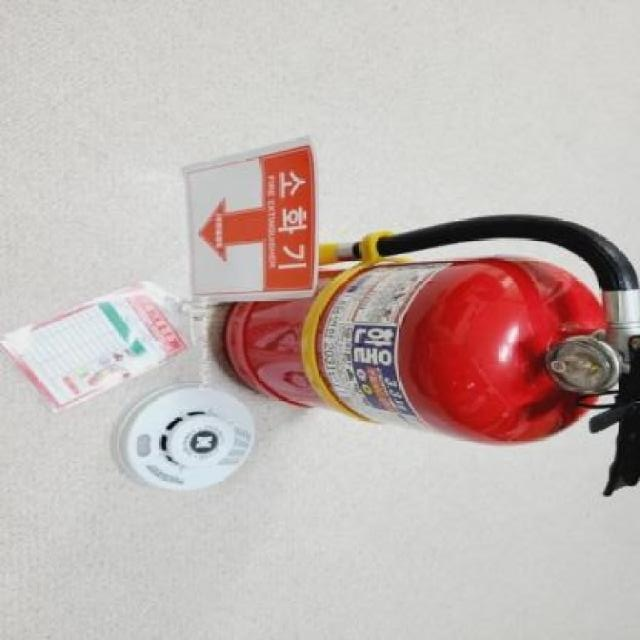fire extinguisher: (223, 214, 640, 497)
